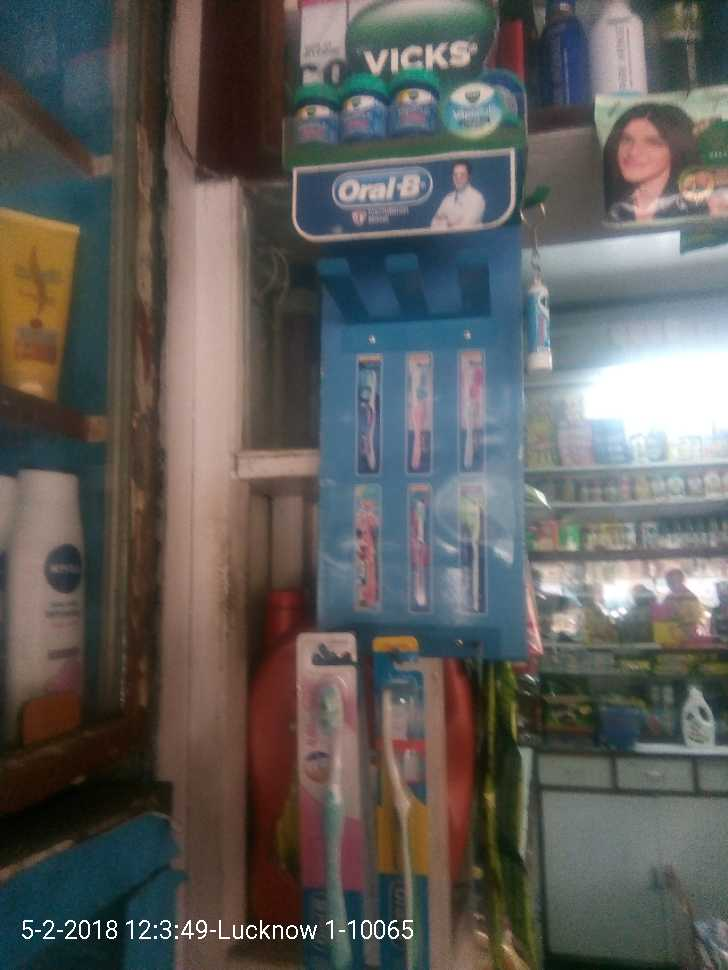pharmacy: (368, 641, 436, 960), (392, 61, 446, 135), (288, 72, 336, 150), (337, 70, 386, 146)
